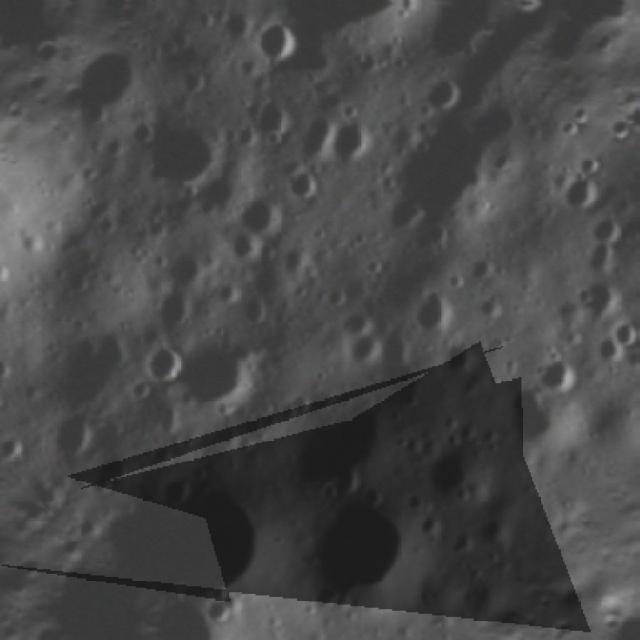crater: (83, 431, 302, 640), (289, 477, 451, 635), (160, 313, 277, 430), (485, 372, 589, 474), (139, 105, 238, 203), (413, 432, 499, 518), (315, 102, 387, 175), (129, 328, 200, 399), (226, 180, 296, 251), (246, 9, 311, 73), (414, 66, 475, 128), (42, 401, 103, 462), (249, 92, 308, 150), (400, 282, 458, 340), (279, 154, 335, 211), (535, 348, 591, 403), (556, 168, 609, 222), (578, 233, 627, 282), (150, 462, 199, 511), (0, 304, 15, 417), (442, 337, 483, 378), (592, 329, 630, 369), (82, 460, 122, 498), (588, 211, 627, 249), (202, 591, 240, 629), (606, 314, 640, 354), (620, 343, 640, 377), (638, 229, 640, 297)
